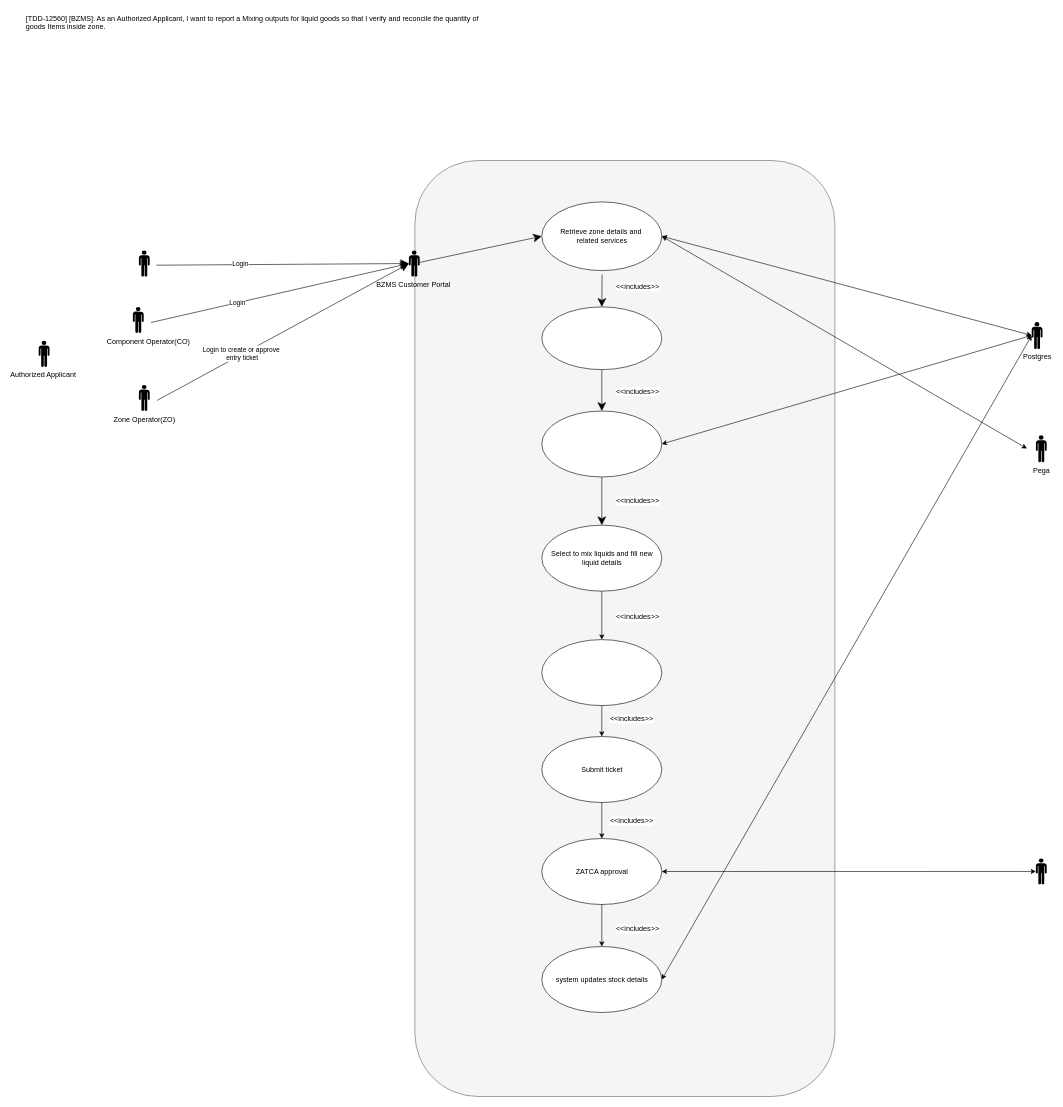
This 1063x1107 diagram has some shape labels left out. The centre of each missing label's shape, as x and y in pixels:
choose to add/create extra consumables: (x=601, y=672)
Retrieve liquid information in tank: (x=601, y=443)
Select "report mixing outputs" and the zone and tank for a time period: (x=601, y=338)
Trader: (x=144, y=263)
ZATCA: (x=1041, y=871)
